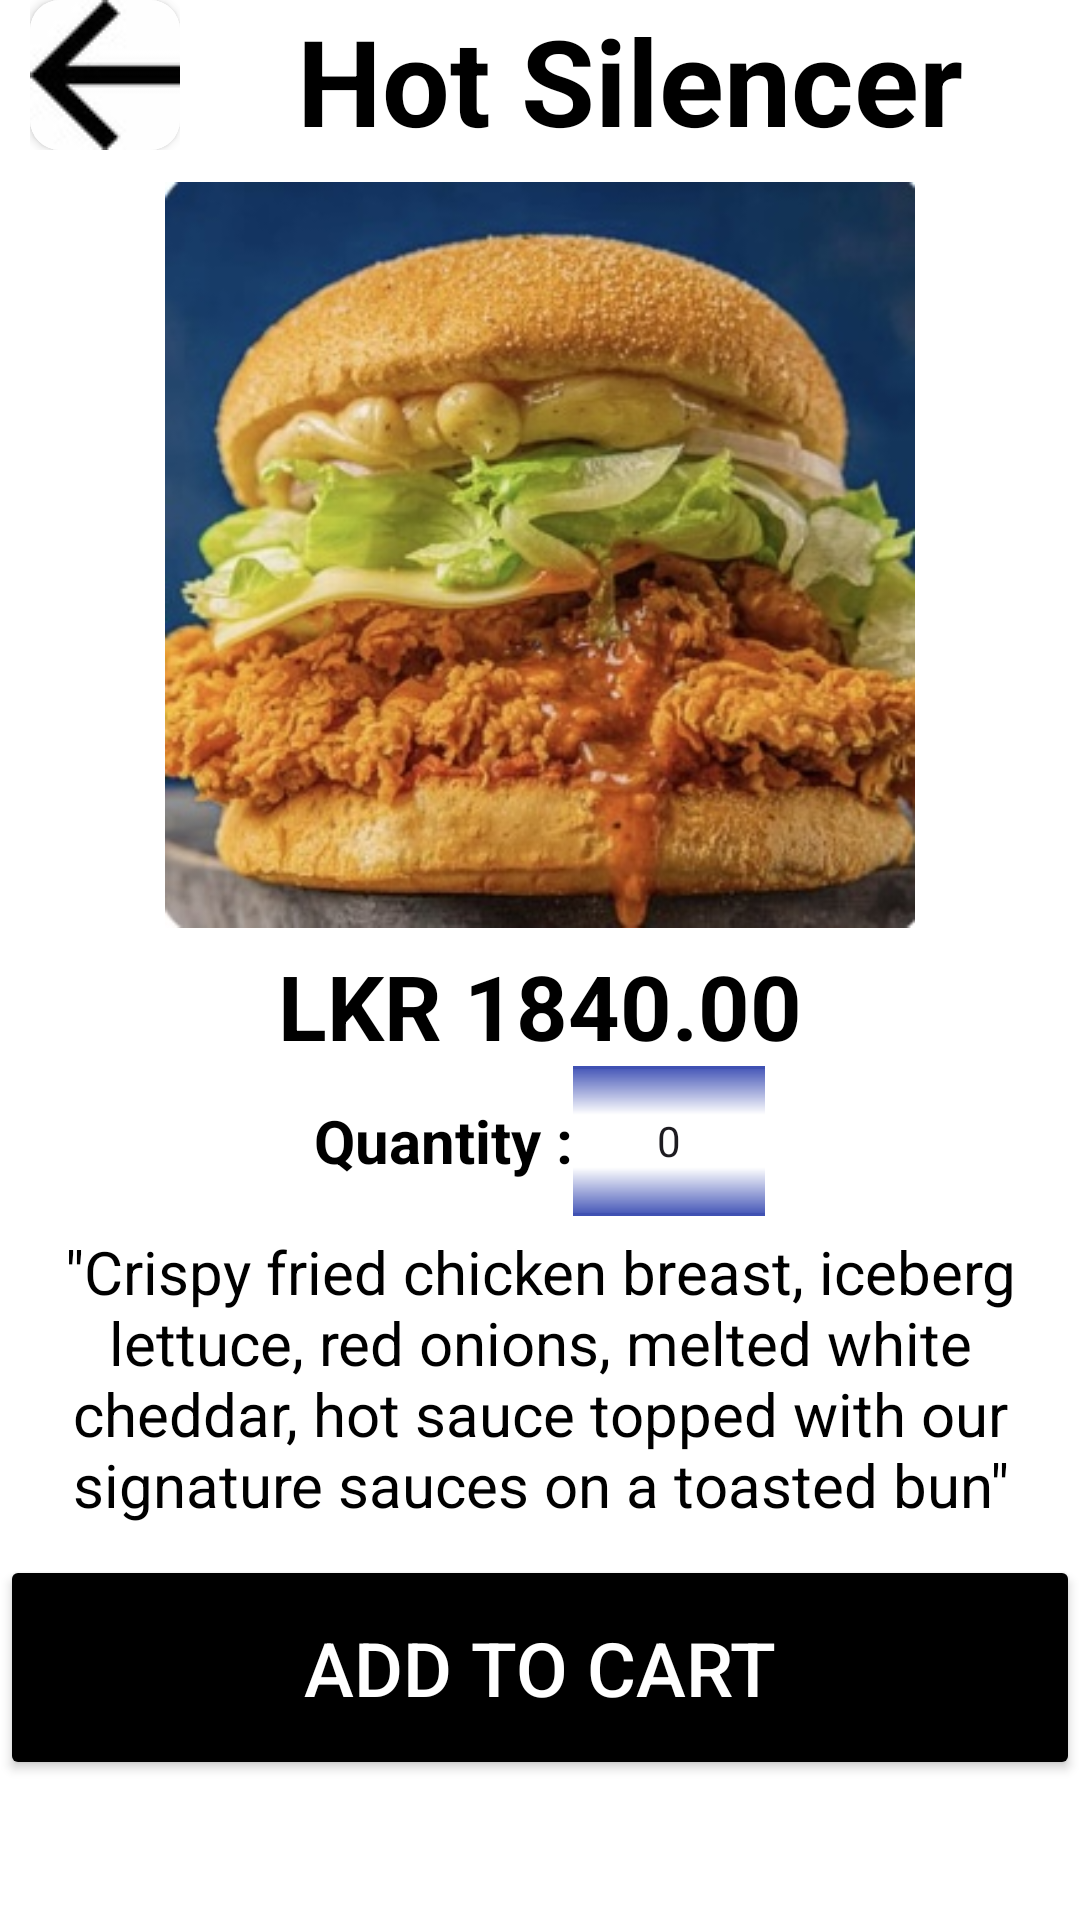

Screen size 1080px×1920px. Icon name, then its box in pixels as (x1, y1, x2, y2):
back: (30, 0, 180, 150)
